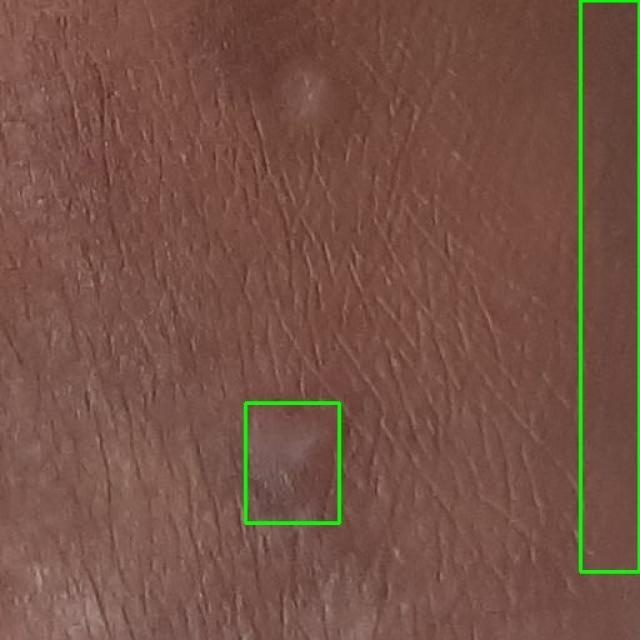Eczema: (580, 0, 639, 571), (245, 402, 339, 522)
